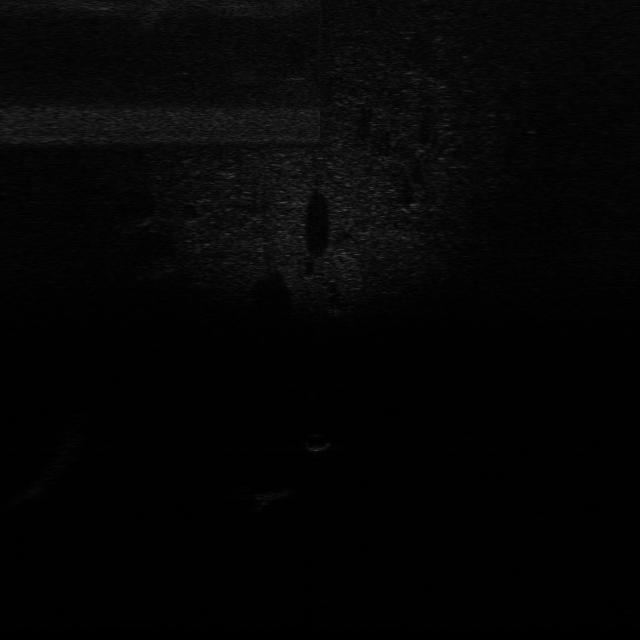ball: (303, 432, 331, 452)
square cage: (244, 481, 300, 506)
